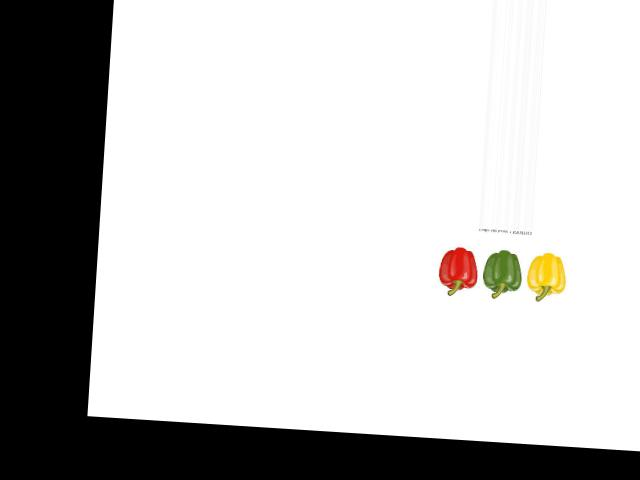bell_pepper: (523, 247, 569, 302)
